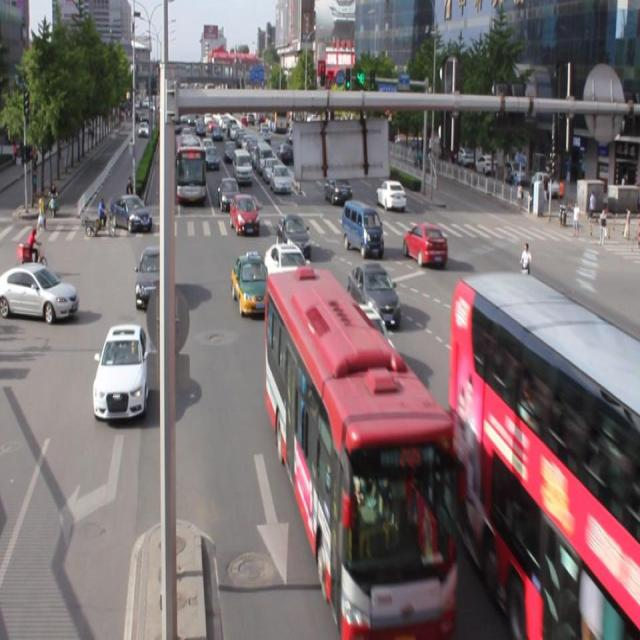car: (92, 321, 148, 421), (347, 263, 399, 327), (265, 240, 309, 299), (232, 252, 272, 315), (135, 245, 170, 307), (403, 222, 447, 268), (276, 214, 310, 258)
truck: (341, 198, 383, 258)
van: (266, 269, 454, 640), (451, 271, 640, 640)
